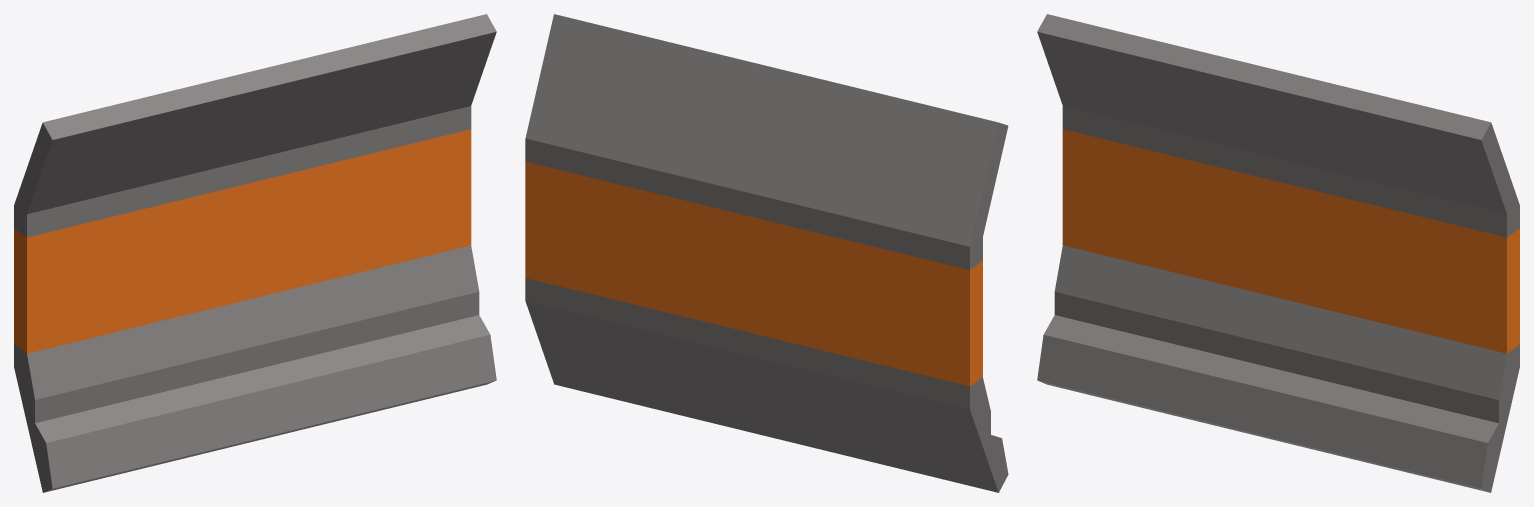
The model's file is scifi_scifi-wall-corridor-stripe.fbx.
3 views of the same model, side by side, from view 1: azimuth 30°, elevation 25°; view 2: azimuth 150°, elevation 25°; view 3: azimuth 330°, elevation 25° (orthographic).
Visible parts, largest first — view 1: scifi_scifi_wall_corridor_stripe; view 2: scifi_scifi_wall_corridor_stripe; view 3: scifi_scifi_wall_corridor_stripe.
Part boxes in pixels (x1=…): scifi_scifi_wall_corridor_stripe: x1=14, y1=14, x2=496, y2=492; scifi_scifi_wall_corridor_stripe: x1=525, y1=14, x2=1008, y2=492; scifi_scifi_wall_corridor_stripe: x1=1037, y1=14, x2=1519, y2=492.
Bounding box in the file's own units: 200 × 159 × 30.
